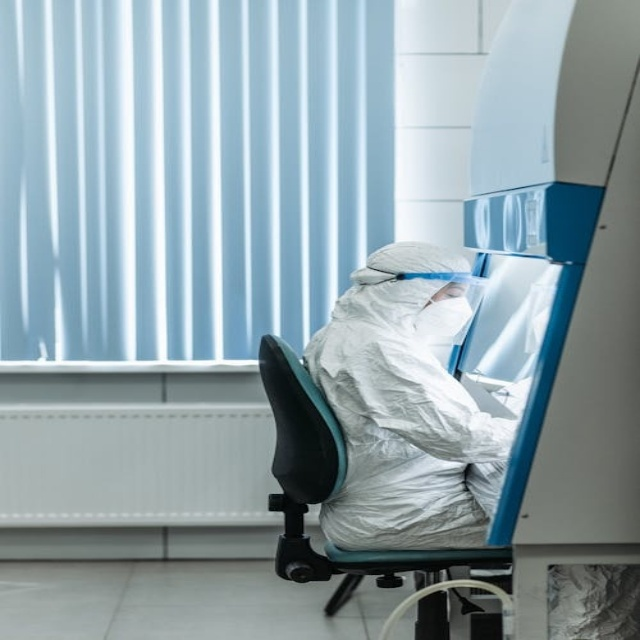Mascara: (417, 296, 475, 343)
Sin_gafas: (444, 284, 466, 298)
